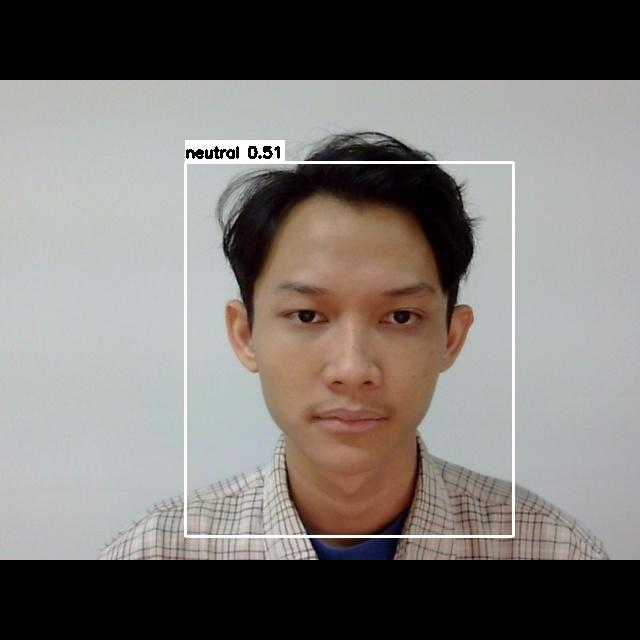Natural: (257, 261, 444, 441)
